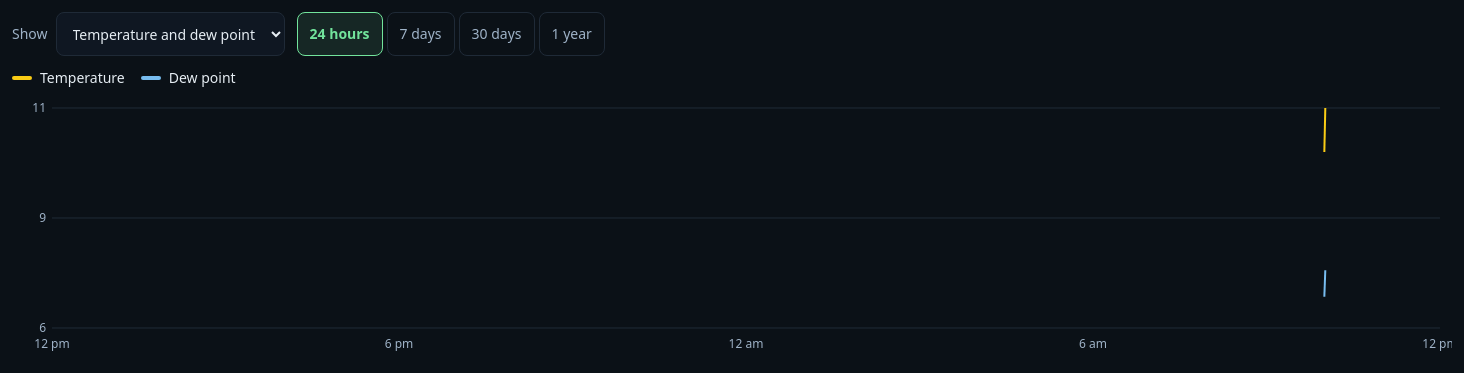
WeatherChartPanel.svelte › switches metric without fetching
Select "Humidity" in the dropdown labelled "Show" at (170, 34), box [56,12,284,56]
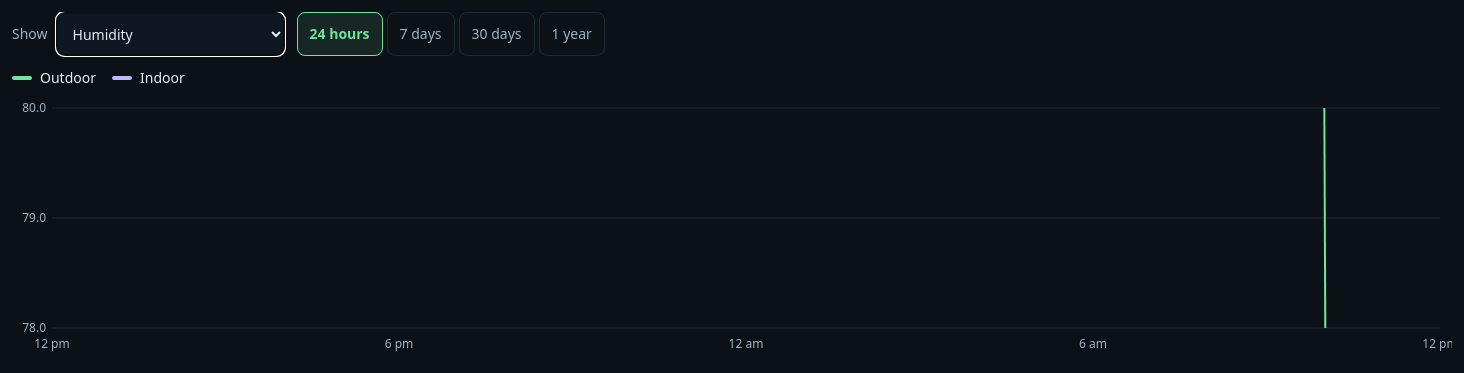
Now the picture named "Humidity, last 24 hours" is shown
